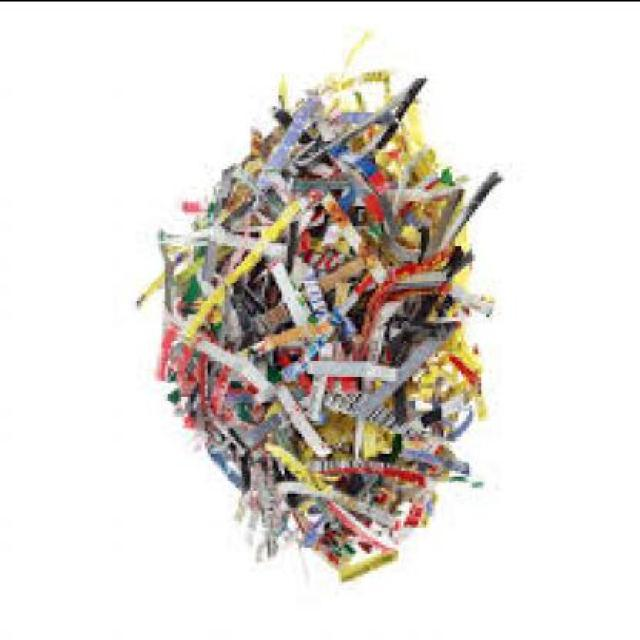PAPER: (131, 31, 500, 582)
